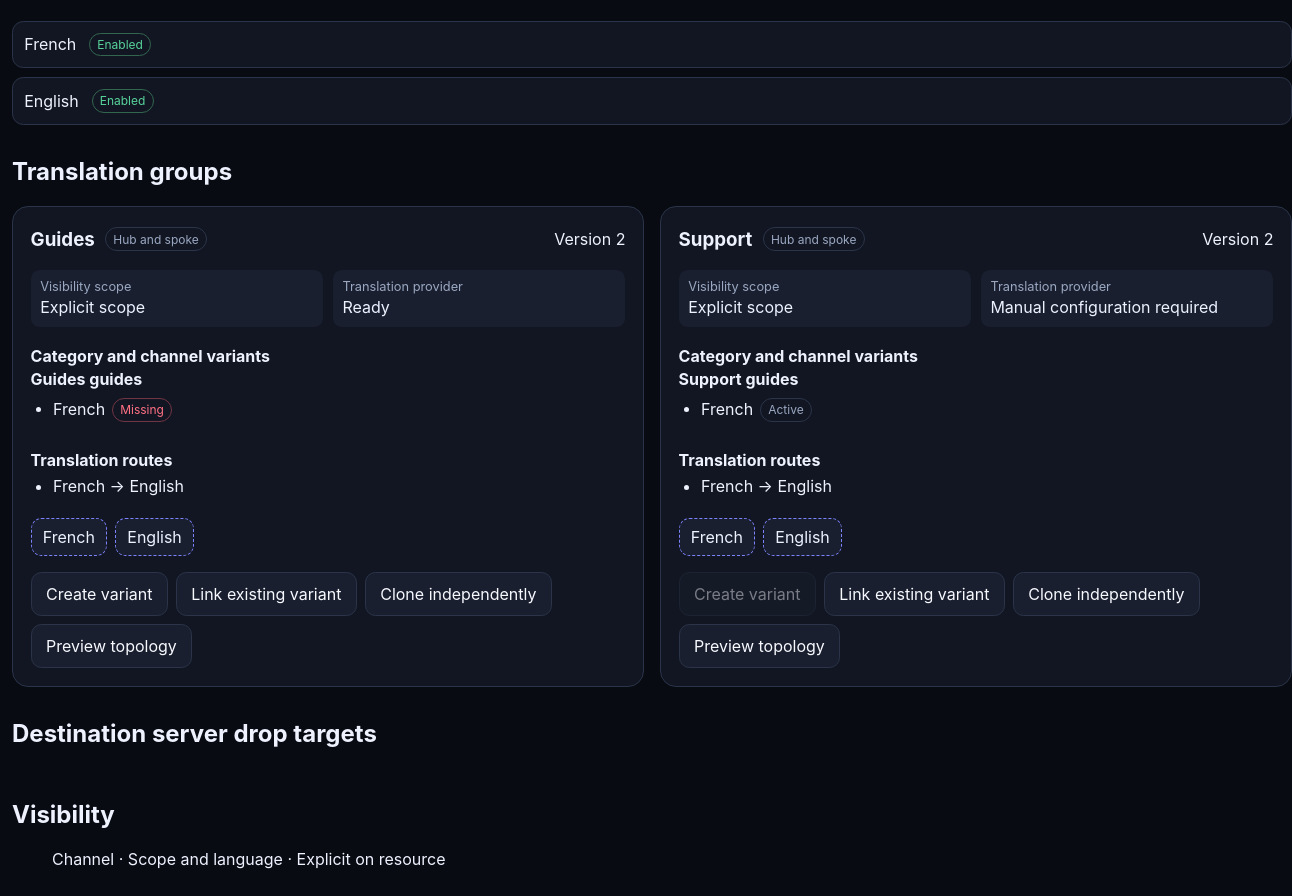
Test: STAGE 08 translation workspace › opens all four multilingual actions with a mounted right drag and retains keyboard buttons
(page scrolled)
Press the mouse on the element "Guides": (328, 446) [12,206,644,687]
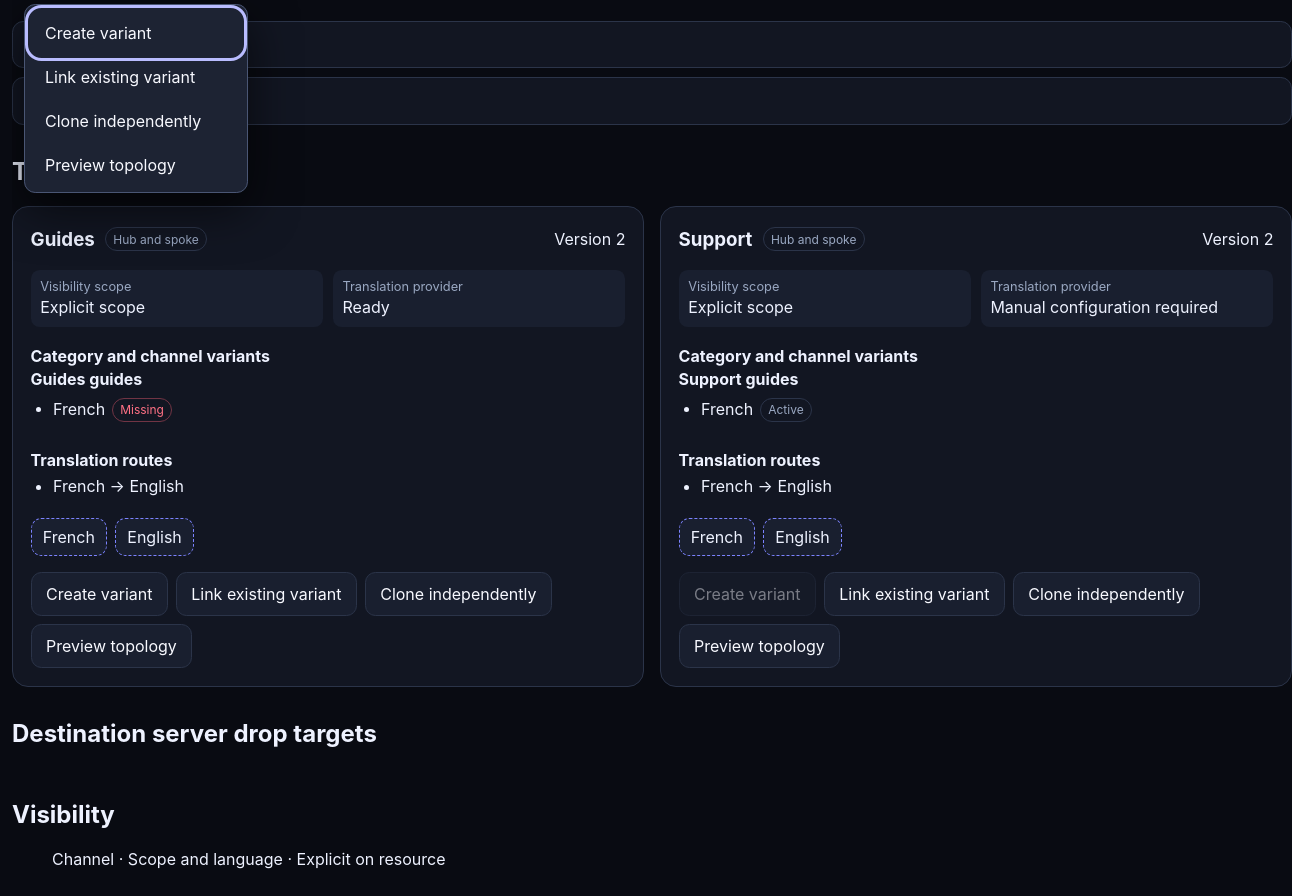
Expected: the button "Create variant" below "Guides guides" is shown, [31,572,168,616]
Expected: the menu named "Available actions" is shown, [24,4,248,193]
